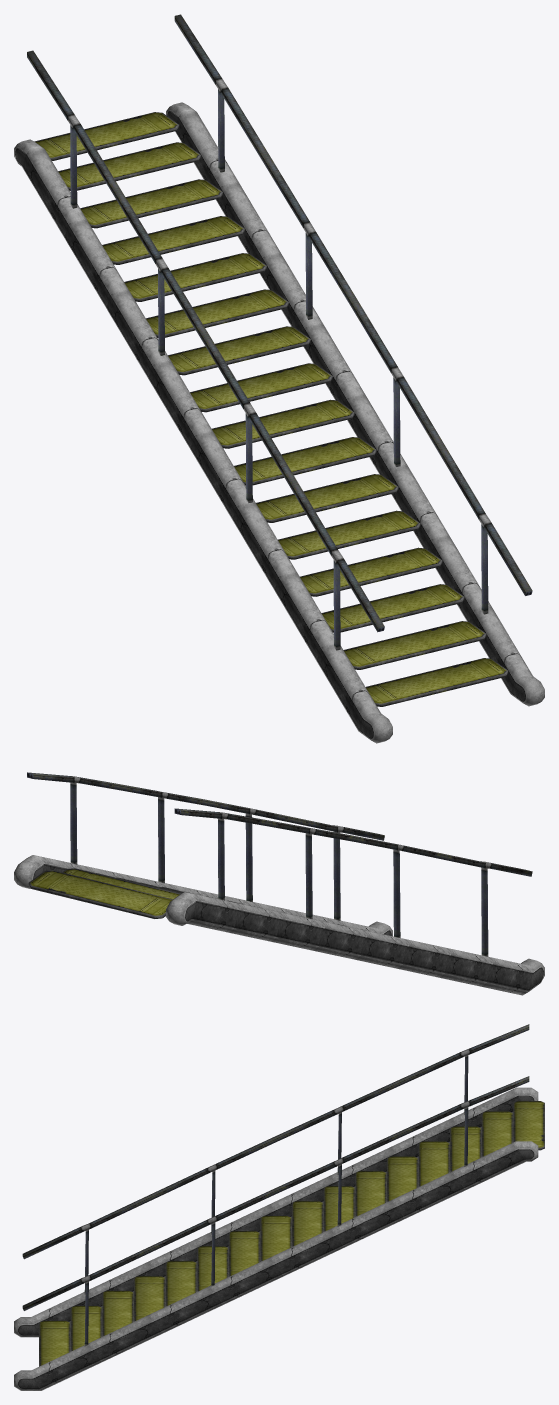
Rendered from metal_datasite_straight.dae.
3 renders of one model, top to bottom at view 1: azimuth 30°, elevation 25°; view 2: azimuth 150°, elevation 25°; view 3: azimuth 270°, elevation 25°, orthographic. The views are drawn at different scales.
Visible parts, largest first — view 1: polySurface30, polySurface23; view 2: polySurface30, polySurface23; view 3: polySurface30, polySurface23.
Part boxes in pixels (bbox=[...]): polySurface30: bbox=[14, 102, 544, 743]; polySurface23: bbox=[27, 14, 532, 650]; polySurface30: bbox=[14, 855, 544, 995]; polySurface23: bbox=[27, 772, 532, 956]; polySurface30: bbox=[14, 1087, 544, 1390]; polySurface23: bbox=[22, 1024, 529, 1346].
Size of the model in its own units: 2.24 by 5.43 by 8.4.
Materials: 2 (2 with a texture image).
